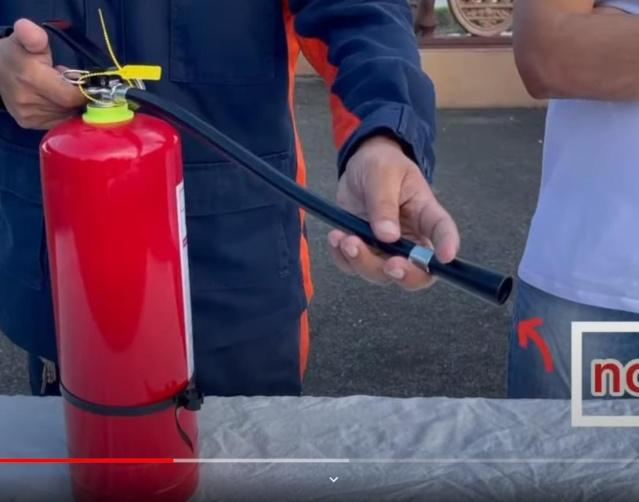AIO PC-Monitor-TV: (36, 64, 200, 457)
